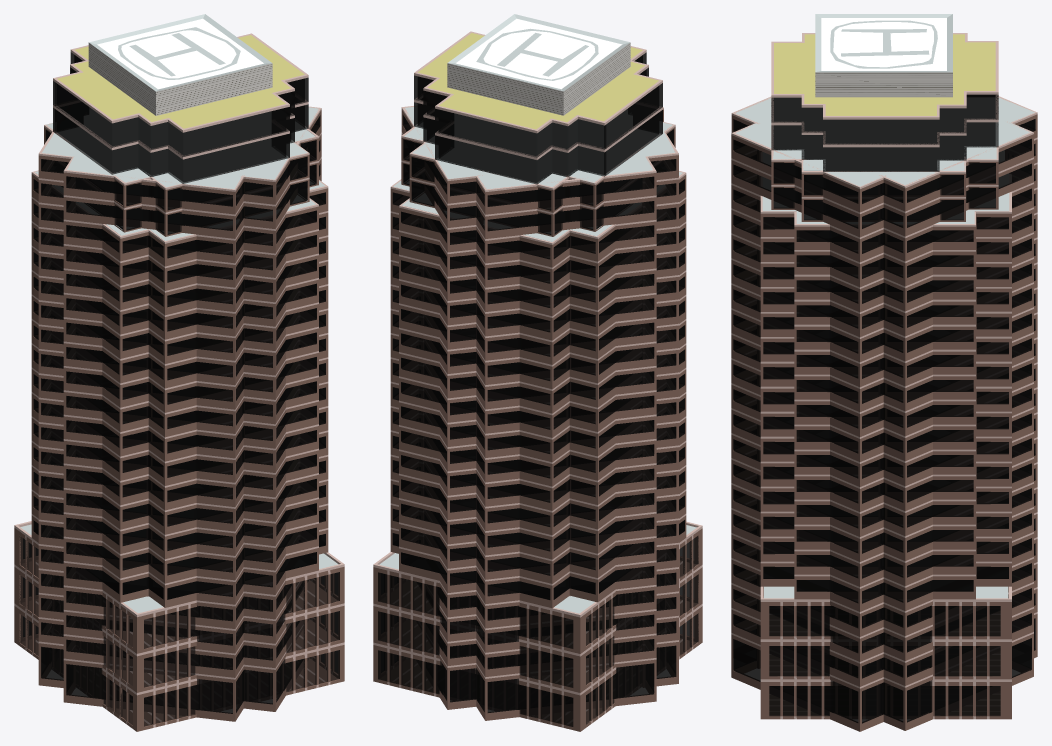
Rendered from Nakatomi Plaza.glb.
3 views of the same model, side by side, from view 1: azimuth 30°, elevation 25°; view 2: azimuth 150°, elevation 25°; view 3: azimuth 270°, elevation 25° (orthographic). The views are drawn at different scales.
Visible parts, largest first — view 1: Tower; view 2: Tower; view 3: Tower.
Boxes of the visible parts, x1,y1,x2,y2 form: Tower: (14, 14, 344, 731); Tower: (373, 14, 702, 731); Tower: (731, 14, 1037, 731).
Bounding box in the file's own units: 33.88 × 76.2 × 33.86.
Materials: 7 (1 with a texture image).
